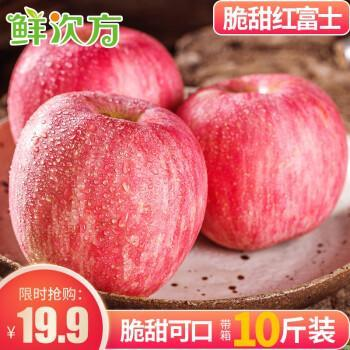apple: (7, 93, 205, 296), (182, 75, 347, 255), (4, 18, 187, 139)
